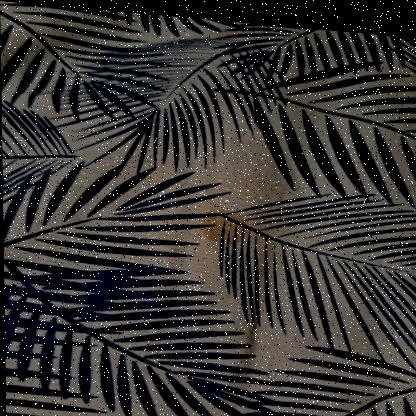spot: (184, 198, 245, 248)
